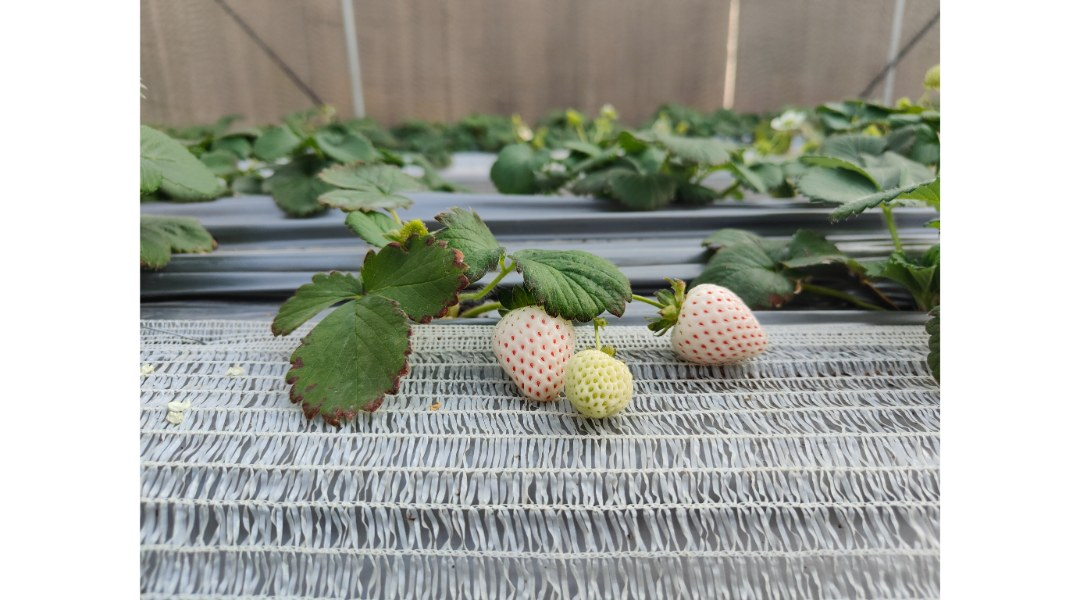berry: (645, 280, 786, 368), (487, 294, 580, 419), (548, 342, 641, 435)
